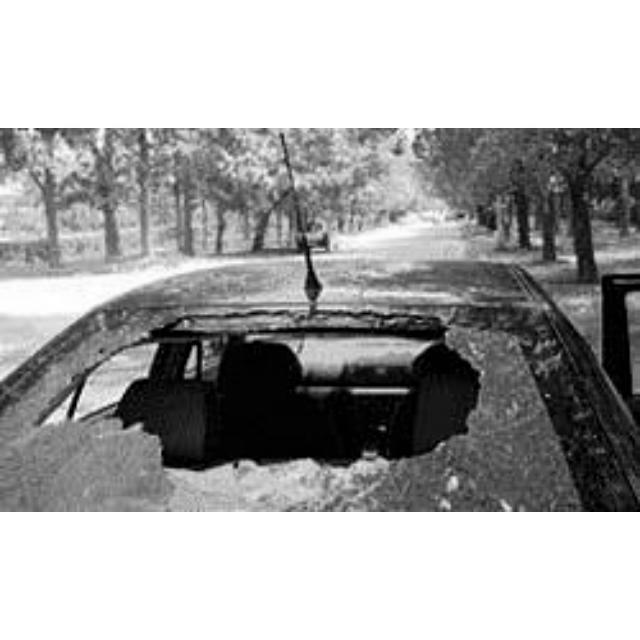Rear-windscreen-Damage: (1, 287, 638, 509)
